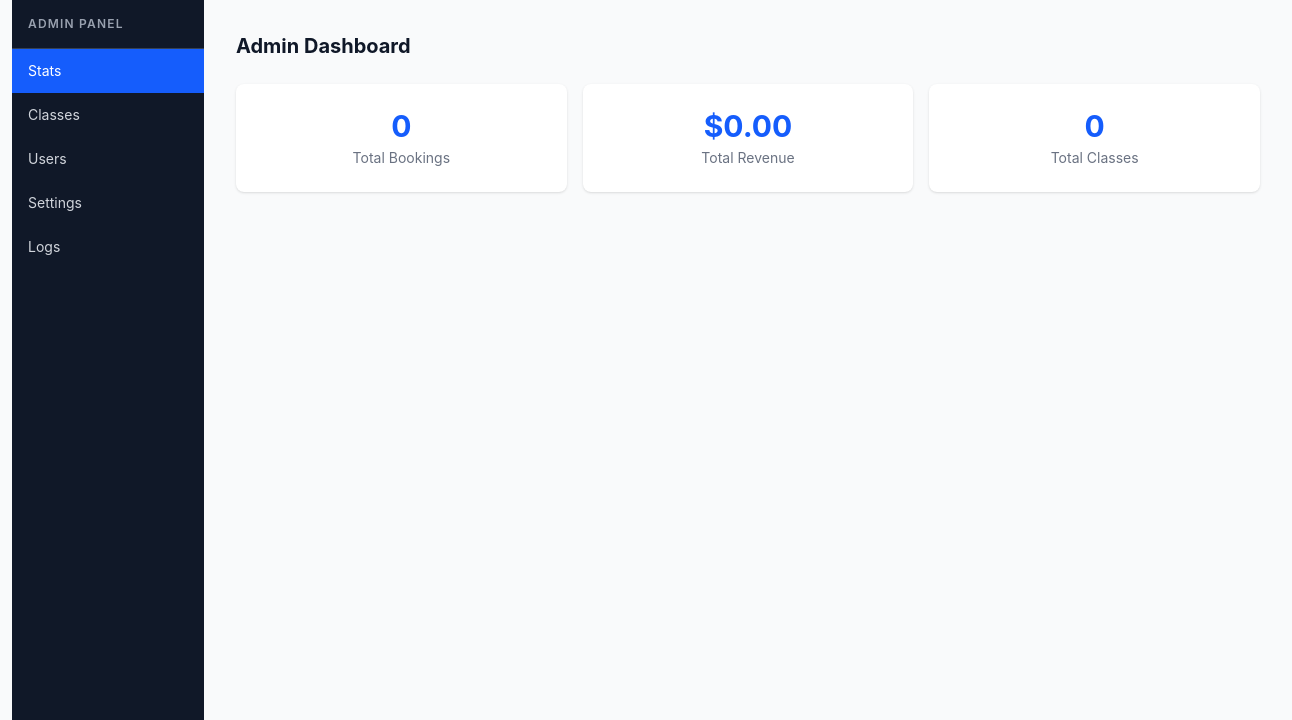
Scenario: Admin Logs tab › expands details when Details button is clicked
Click the button "Logs": (108, 247) [12,225,204,269]
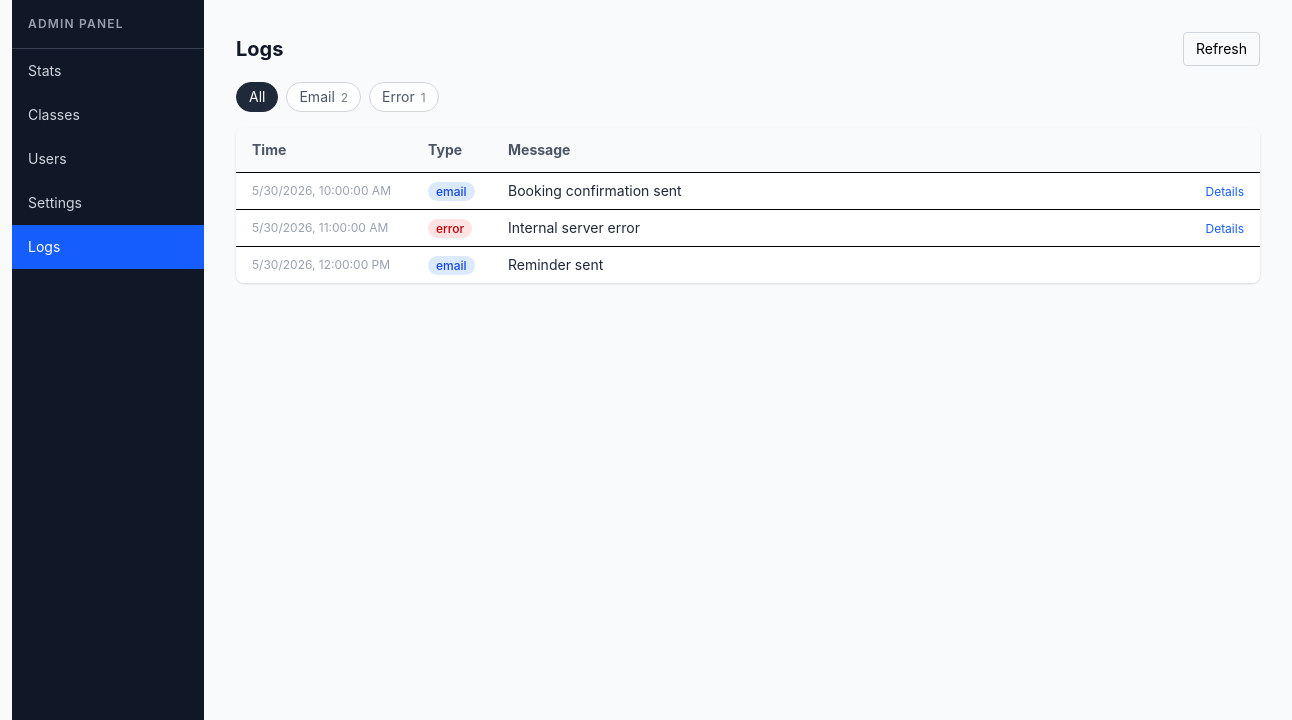
Expected: the text "To: alice@test.com" is not shown
Expected: the text "Booking confirmation sent" is shown, [492,172,1180,210]
Click the button "Details" in the row of "5/30/2026, 10:00:00 AM": (1225, 192) [1206,184,1244,200]
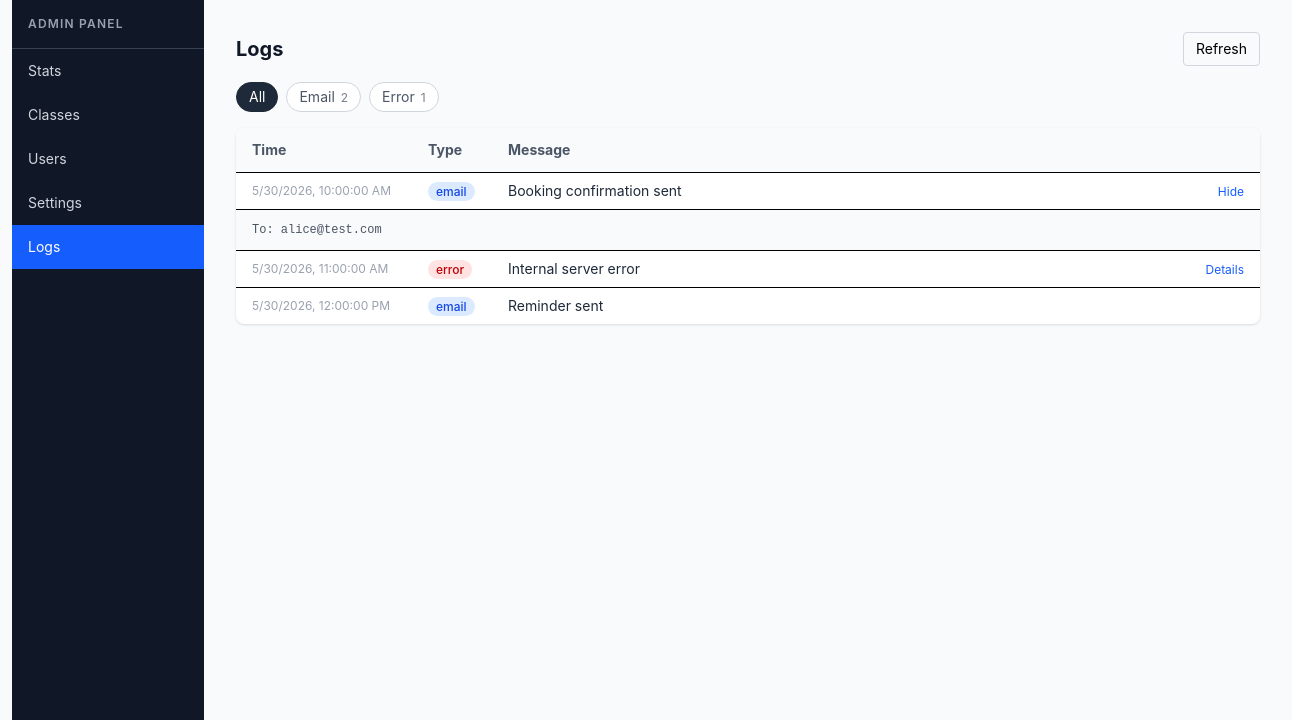
Expected: the text "To: alice@test.com" is shown, [252,223,382,237]
